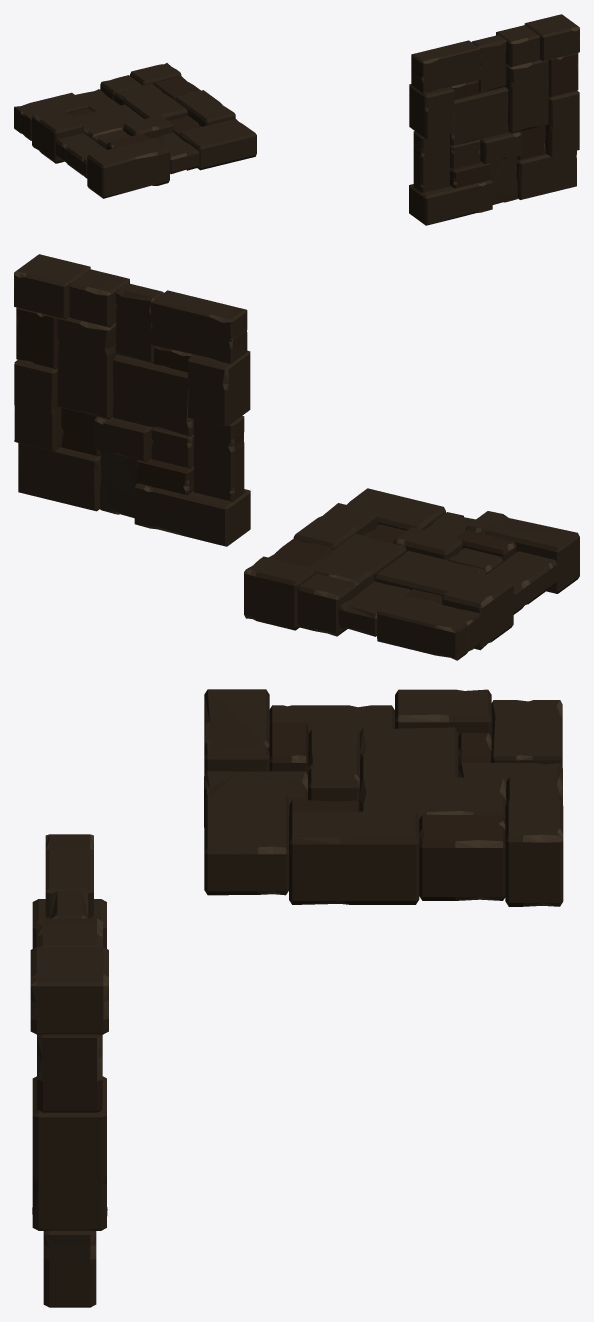
File: Wall_Modular_Cube.obj
The picture shows the model from 3 angles, top to bottom: view 1: azimuth 30°, elevation 25°; view 2: azimuth 150°, elevation 25°; view 3: azimuth 270°, elevation 25°; orthographic projection. The views are drawn at different scales.
Parts seen in each view (by area): view 1: Wall_Modular_Cube.001, Wall_Modular_Cube.002; view 2: Wall_Modular_Cube.001, Wall_Modular_Cube.002; view 3: Wall_Modular_Cube.002, Wall_Modular_Cube.001.
Part boxes in pixels (bbox=[...]): Wall_Modular_Cube.001: bbox=[409, 14, 579, 225]; Wall_Modular_Cube.002: bbox=[14, 63, 256, 198]; Wall_Modular_Cube.001: bbox=[14, 254, 250, 546]; Wall_Modular_Cube.002: bbox=[244, 488, 579, 660]; Wall_Modular_Cube.002: bbox=[204, 689, 563, 906]; Wall_Modular_Cube.001: bbox=[30, 834, 108, 1307].
Bounding box in the file's own units: 5.61 × 2.01 × 2.97.
